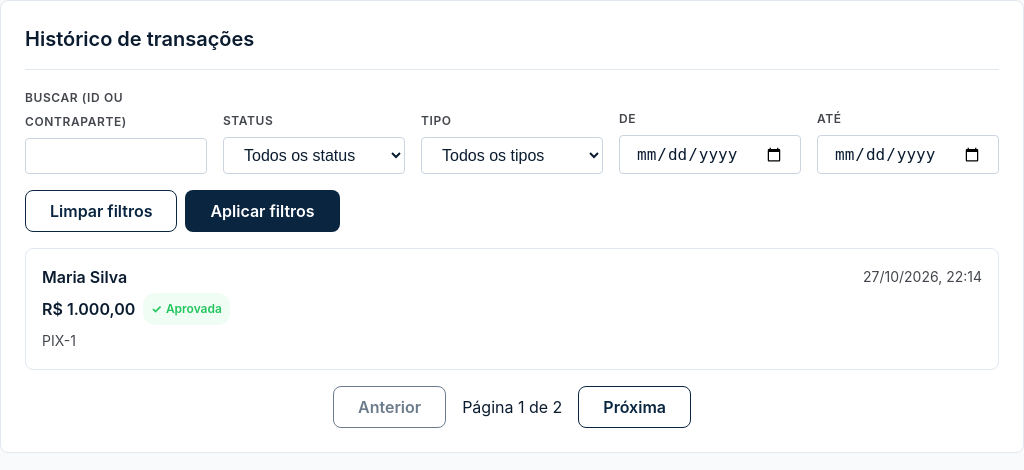
Test: HistoricoView (T06) › paginação: "Próxima" busca a página seguinte e respeita o limite
Expected: the button "Anterior" is disabled, left=333, top=386, right=446, bottom=428
Click the button "Próxima".
click(635, 407)  # box left=578, top=386, right=691, bottom=428
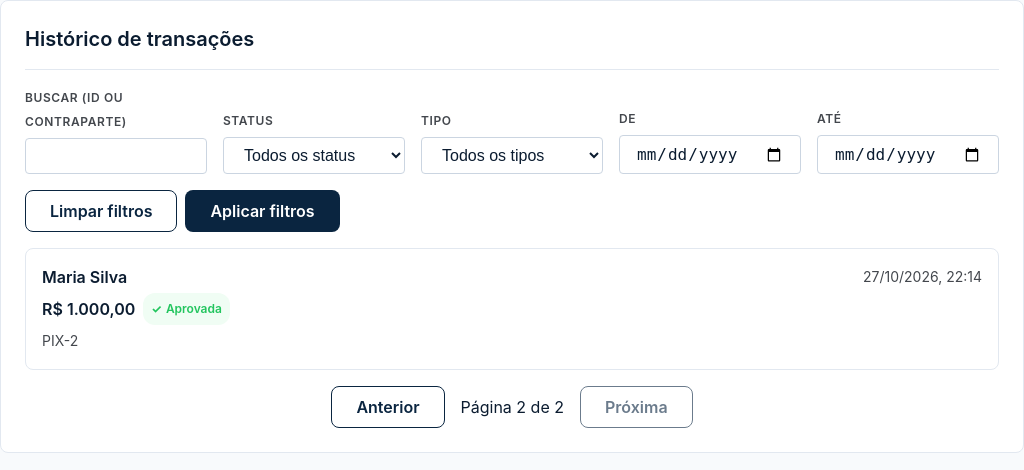
Result: the button "Próxima" is disabled at left=580, top=386, right=693, bottom=428
